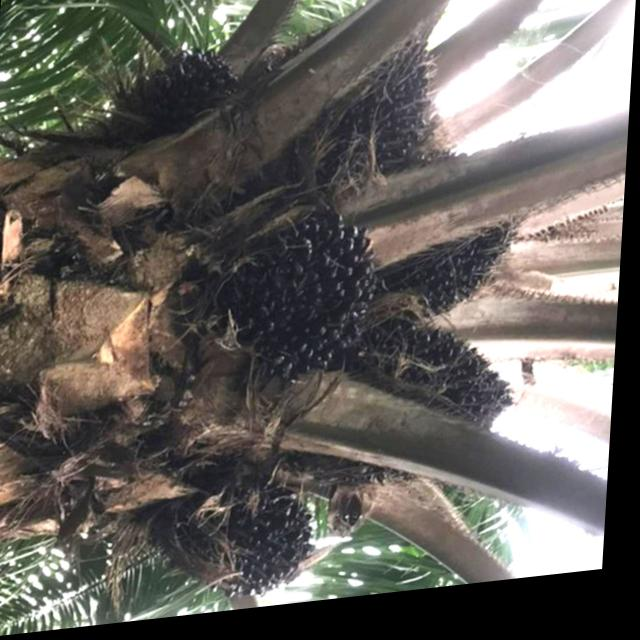almost: (305, 312, 523, 507), (365, 146, 545, 333), (216, 211, 384, 397), (276, 19, 445, 188), (161, 462, 330, 611), (106, 45, 244, 147)
